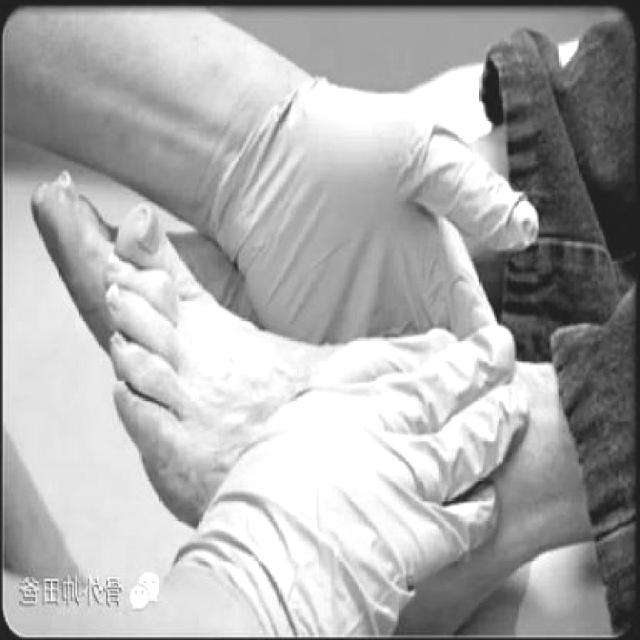hand_glove: (192, 318, 532, 631), (236, 91, 542, 377)
